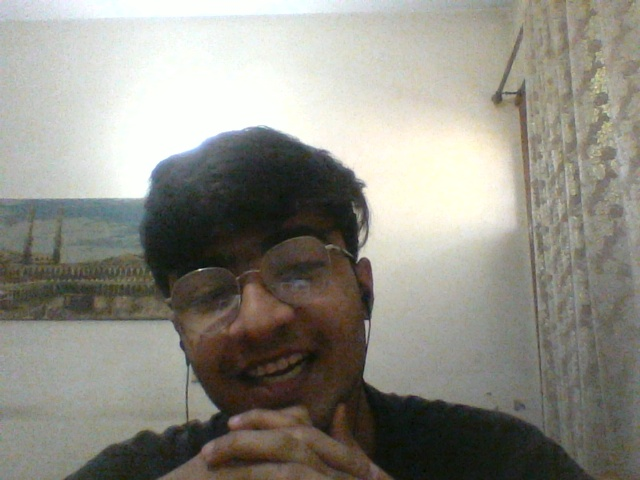happy: (171, 225, 358, 400)
